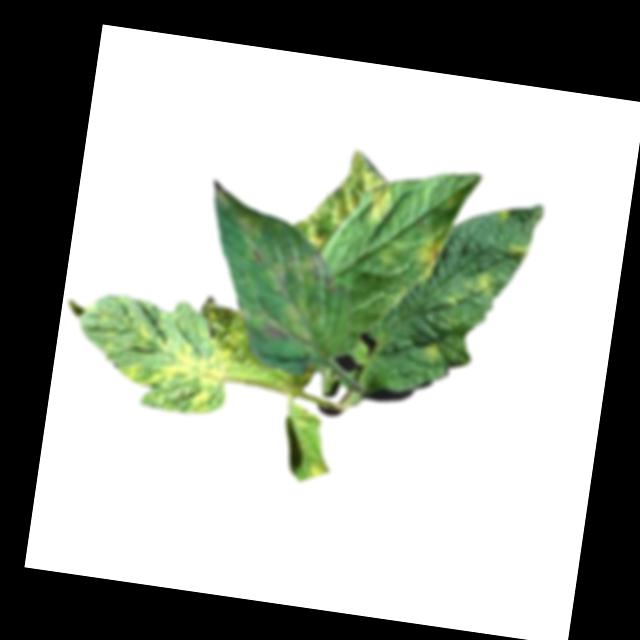Leaf_Mold: (289, 144, 392, 261), (243, 244, 342, 353), (123, 323, 235, 417), (206, 176, 294, 247), (412, 228, 450, 285), (364, 184, 400, 225), (469, 269, 498, 297), (419, 338, 444, 361)
